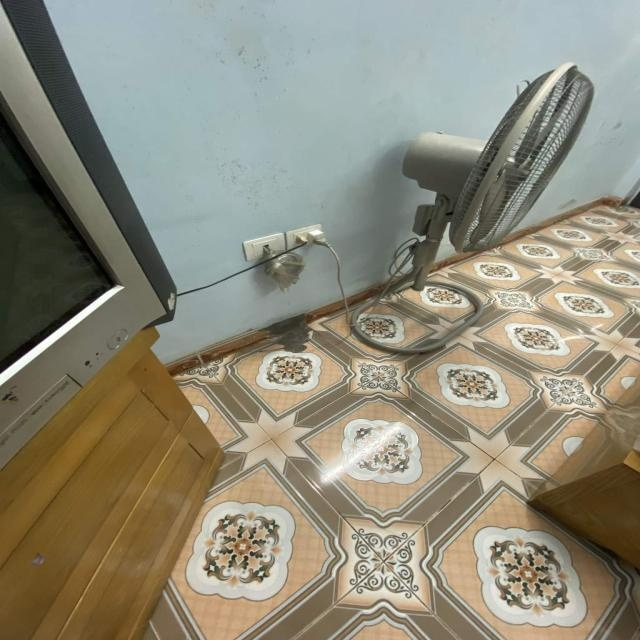outlet: (242, 232, 285, 261), (285, 223, 324, 252)
